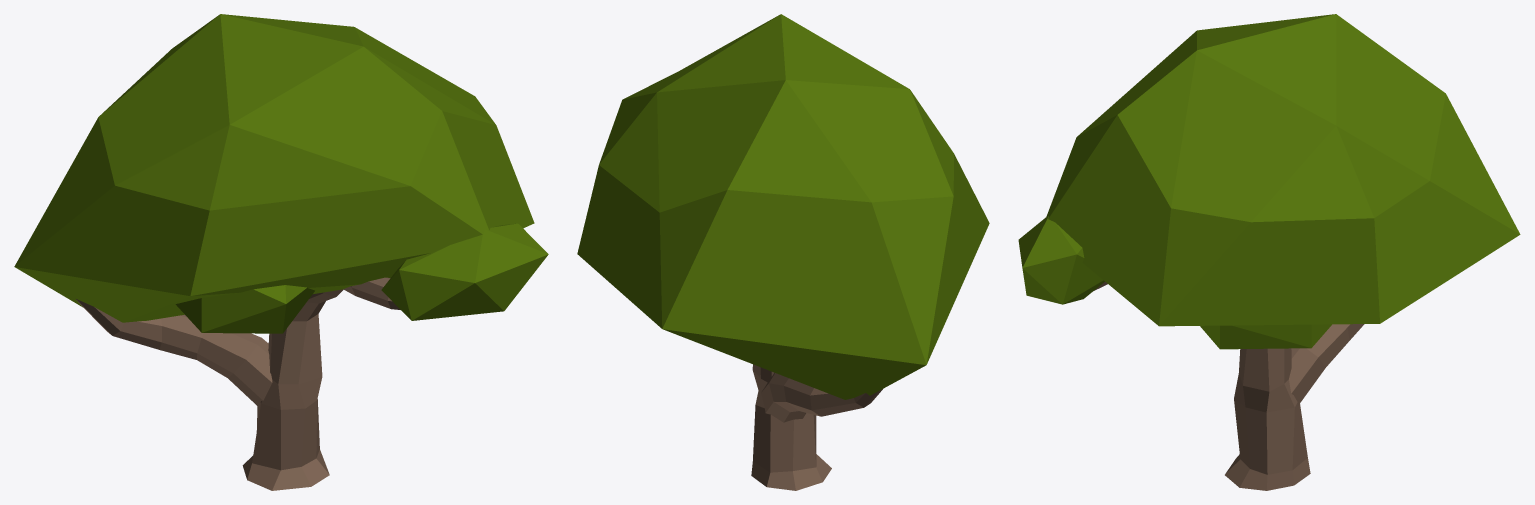
The model's file is TT_Oak_tree.fbx.
3 renders of one model, left to right at view 1: azimuth 30°, elevation 25°; view 2: azimuth 150°, elevation 25°; view 3: azimuth 270°, elevation 25°, orthographic. The views are drawn at different scales.
Parts seen in each view (by area): view 1: British_oak_Tree; view 2: British_oak_Tree; view 3: British_oak_Tree.
Part boxes in pixels (x1,y1,x2,y2): British_oak_Tree: [14, 14, 548, 490]; British_oak_Tree: [577, 14, 989, 490]; British_oak_Tree: [1018, 14, 1520, 490].
Bounding box in the file's own units: 695 × 727 × 746.
